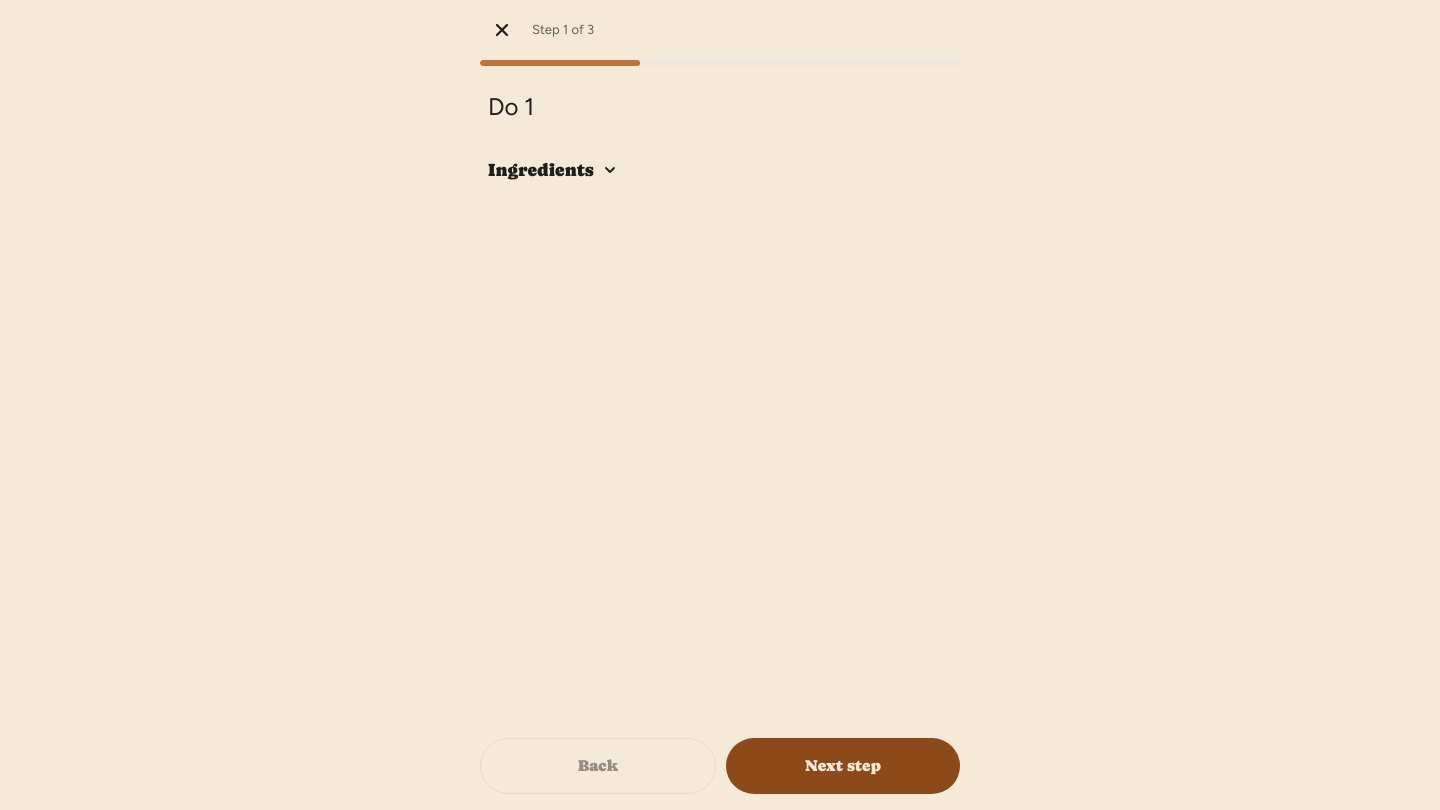
Test: CookModePage (RL-203) › Done opens the sign-in sheet for a signed-out cook
This screenshot has width=1440, height=810.
Click the button "Next step" at point(843, 766), box [726,738,960,794]
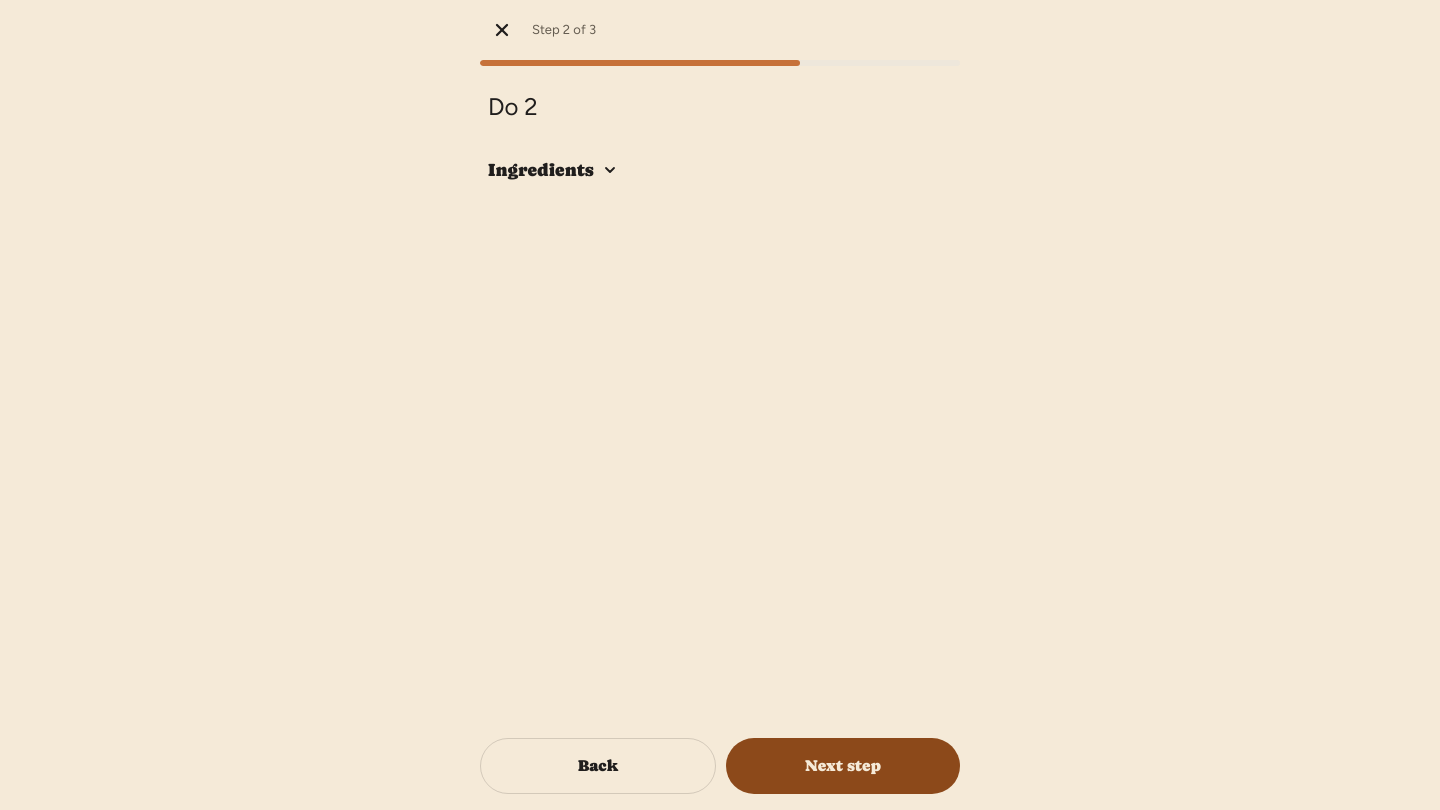
Click the button "Next step" at point(843, 766), box [726,738,960,794]
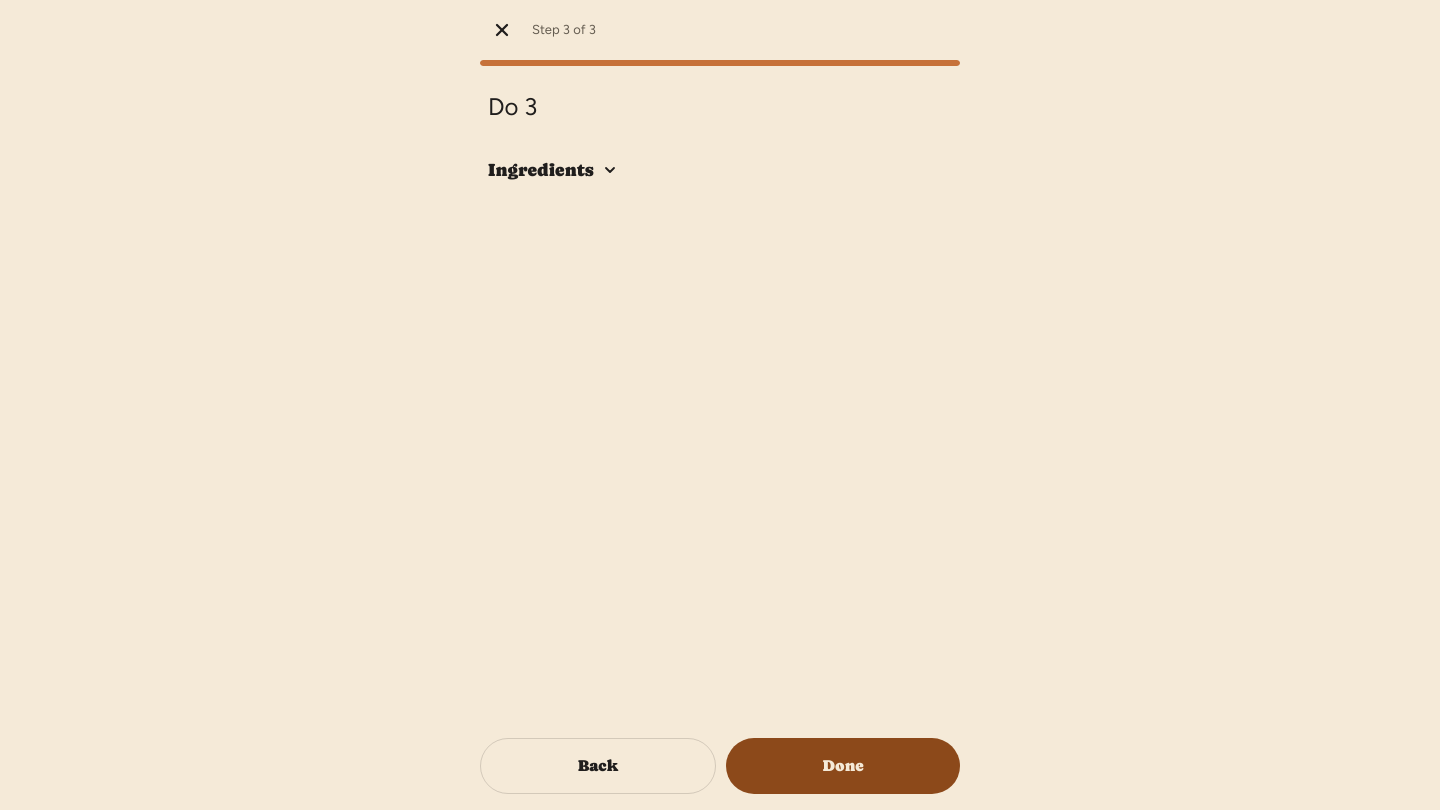
Click the button "Done" at point(843, 766), box [726,738,960,794]
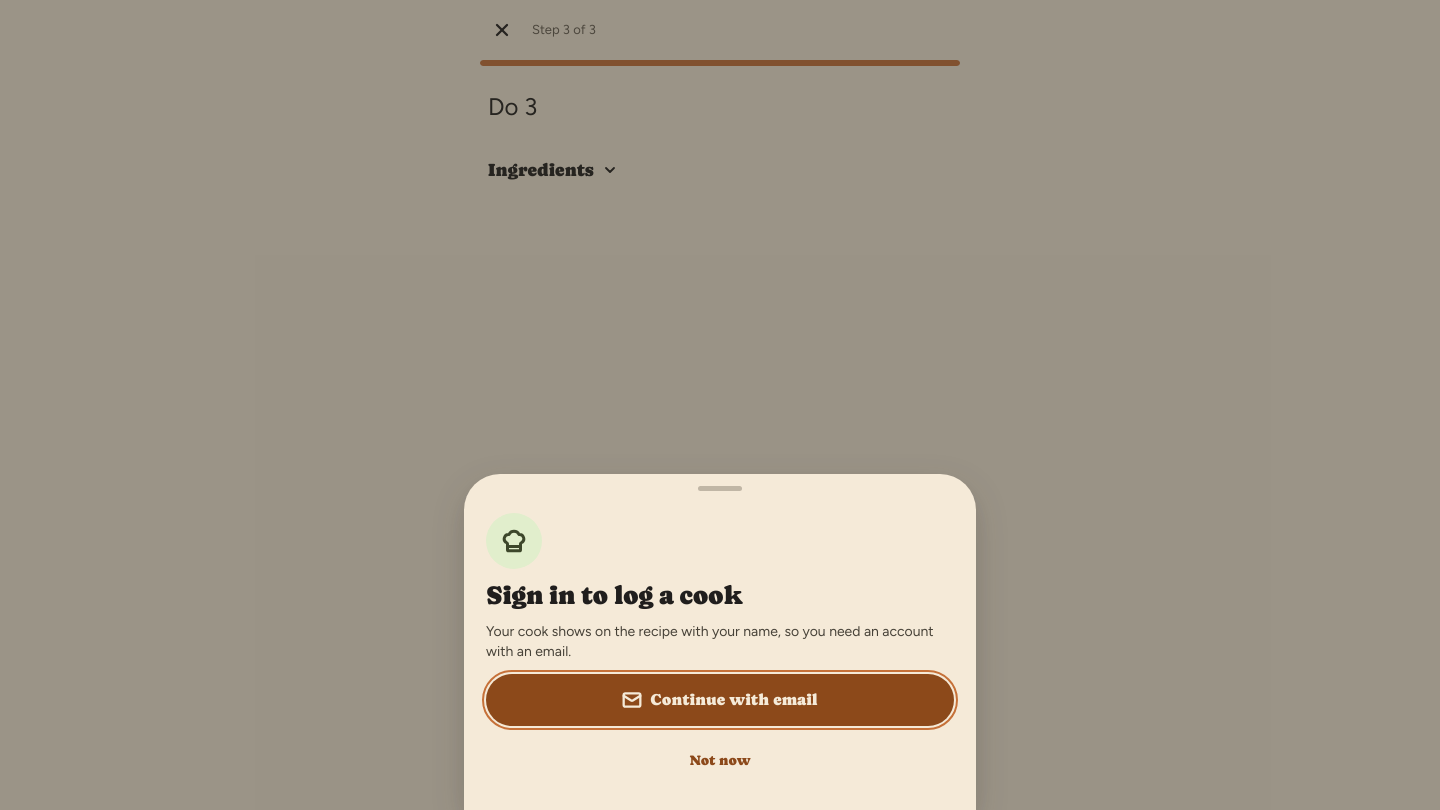
Expected: the heading "Sign in to log a cook" is shown, [486,580,742,610]
